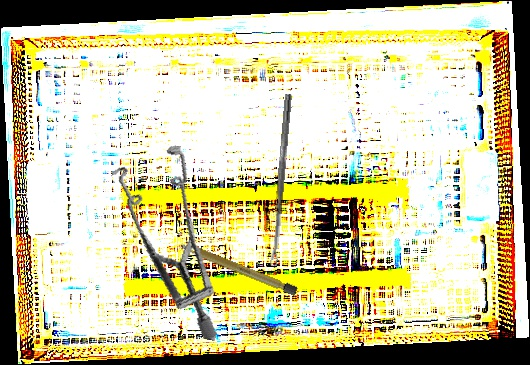Scalpel Handle: (178, 239, 299, 297)
Speculum: (80, 132, 256, 342)
Surgical Spoon: (268, 93, 293, 267)
